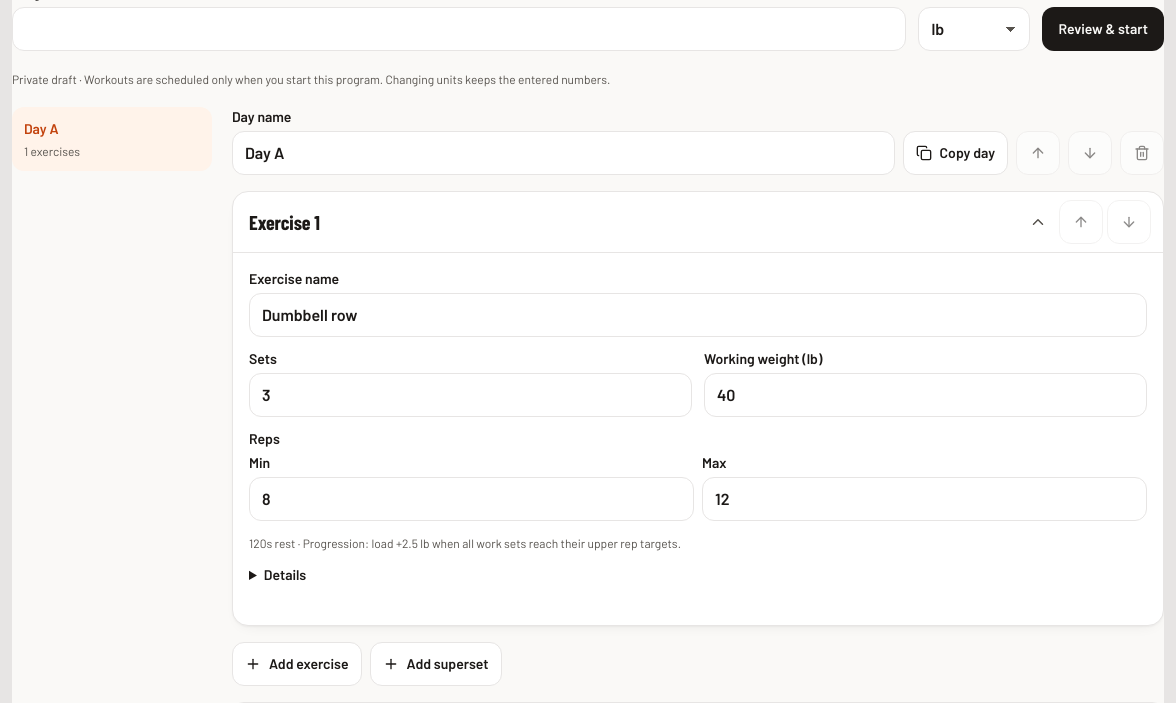
day-based program builder › groups reps into one fieldset without changing targets and puts review warnings before workouts
Check: the number field named "Minimum reps" holds "8", box 249,477 -> 694,521
Check: the number field named "Maximum reps" holds "12", box 702,477 -> 1147,521
Click the button "Review & start".
click(1103, 29)  # box 1042,7 -> 1164,51
(page scrolled)
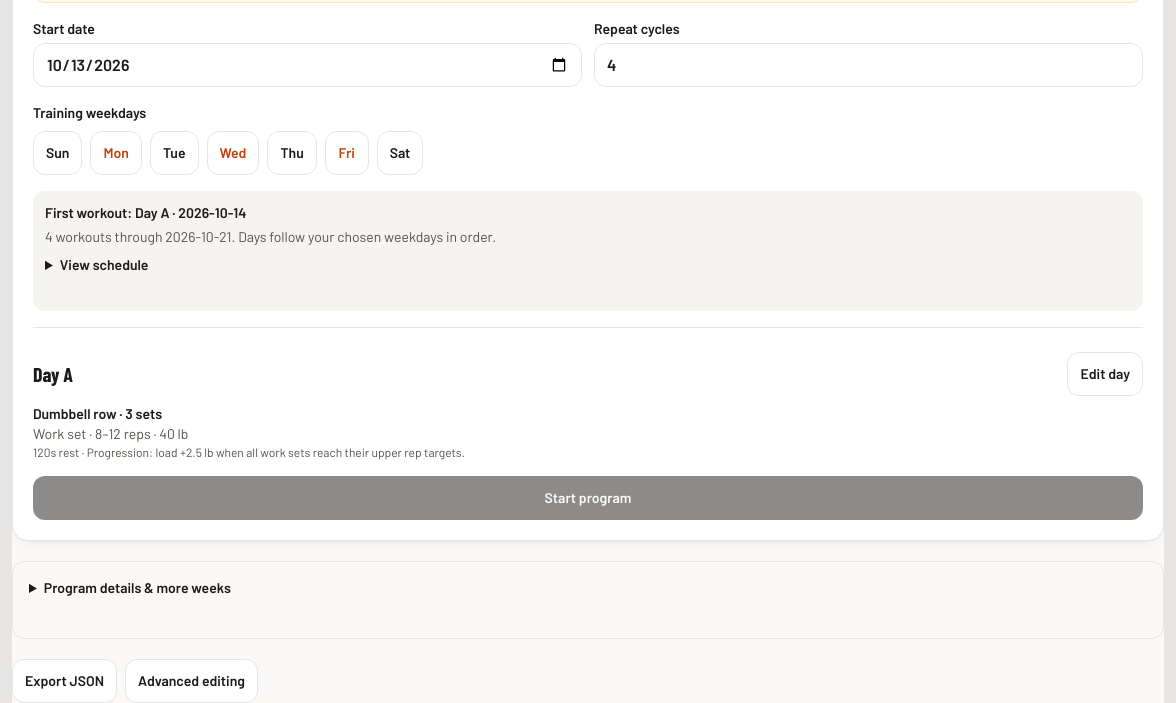
Check: the button "Start program" is disabled, box 33,476 -> 1143,520
